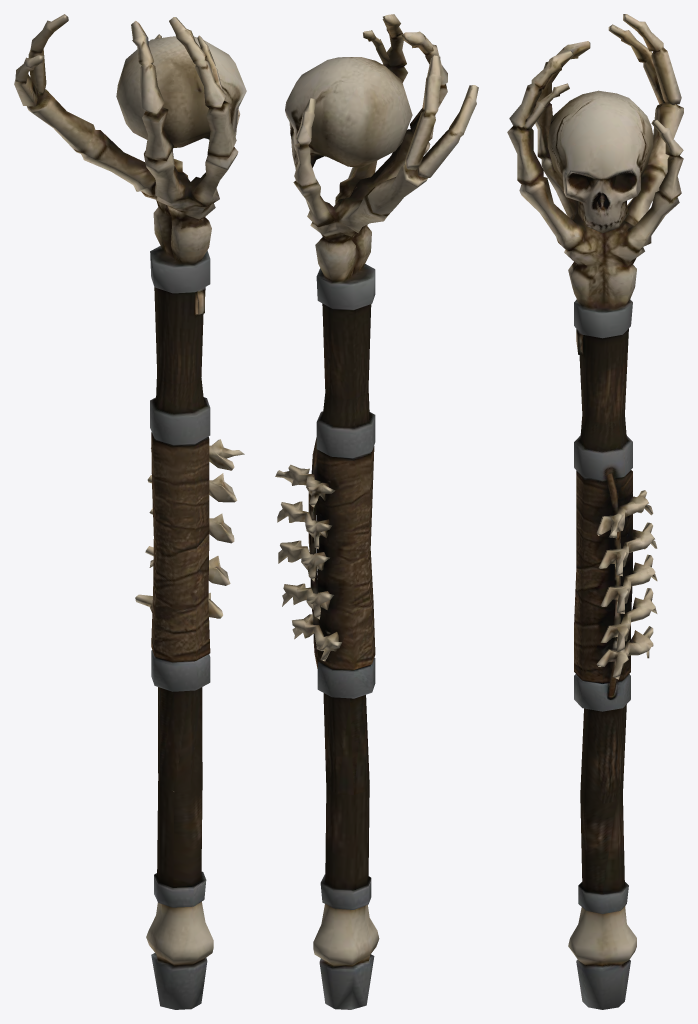
File: necro_wpn_wand.glb
3 renders of one model, left to right at view 1: azimuth 30°, elevation 25°; view 2: azimuth 150°, elevation 25°; view 3: azimuth 270°, elevation 25°, orthographic. The views are drawn at different scales.
Parts seen in each view (by area): view 1: tripo_node_e2f16f34-a838-4def-aa78-02a96192de14; view 2: tripo_node_e2f16f34-a838-4def-aa78-02a96192de14; view 3: tripo_node_e2f16f34-a838-4def-aa78-02a96192de14.
Part boxes in pixels (left/top/right/bottom): tripo_node_e2f16f34-a838-4def-aa78-02a96192de14: left=14, top=14, right=246, bottom=1009; tripo_node_e2f16f34-a838-4def-aa78-02a96192de14: left=275, top=14, right=478, bottom=1009; tripo_node_e2f16f34-a838-4def-aa78-02a96192de14: left=507, top=14, right=683, bottom=1009.
Size of the model in its own units: 0.2206 by 0.998 by 0.17.
Materials: 1 (1 with a texture image).
